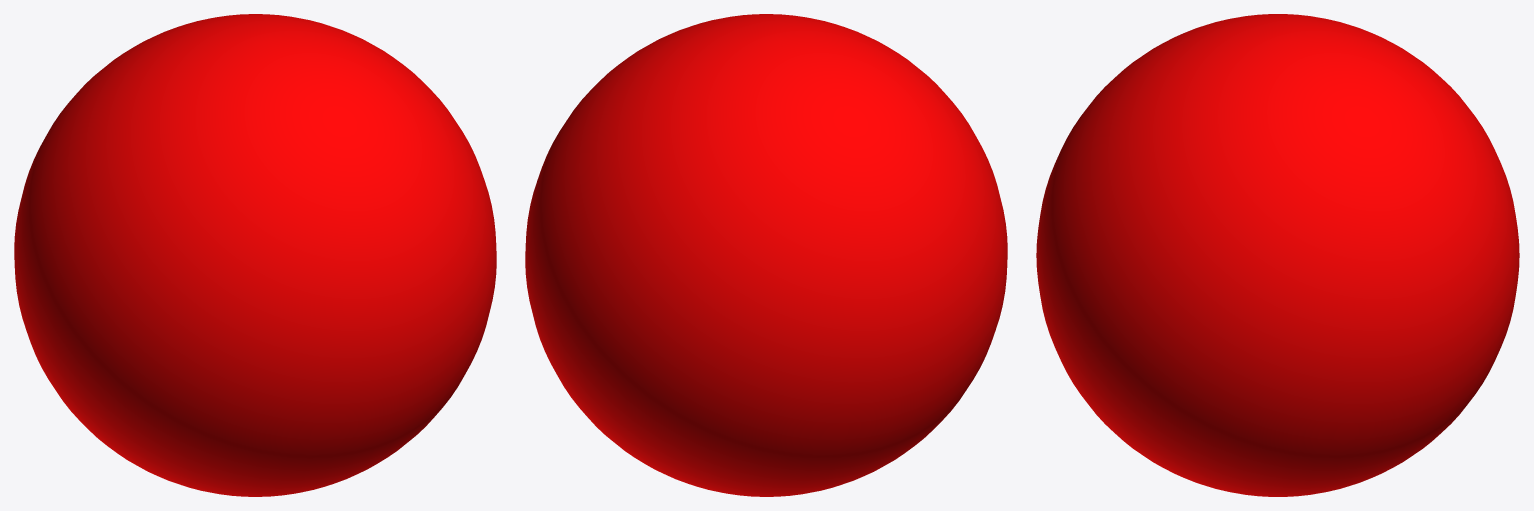
Rendered from ballon.fbx.
3 views of the same model, side by side, from view 1: azimuth 30°, elevation 25°; view 2: azimuth 150°, elevation 25°; view 3: azimuth 270°, elevation 25° (orthographic).
Parts seen in each view (by area): view 1: pSphere1; view 2: pSphere1; view 3: pSphere1.
Part boxes in pixels (<box>): pSphere1: <box>14,14,496,496</box>; pSphere1: <box>525,14,1007,496</box>; pSphere1: <box>1036,14,1519,496</box>.
Size of the model in its own units: 9.18 by 9.2 by 9.2.
